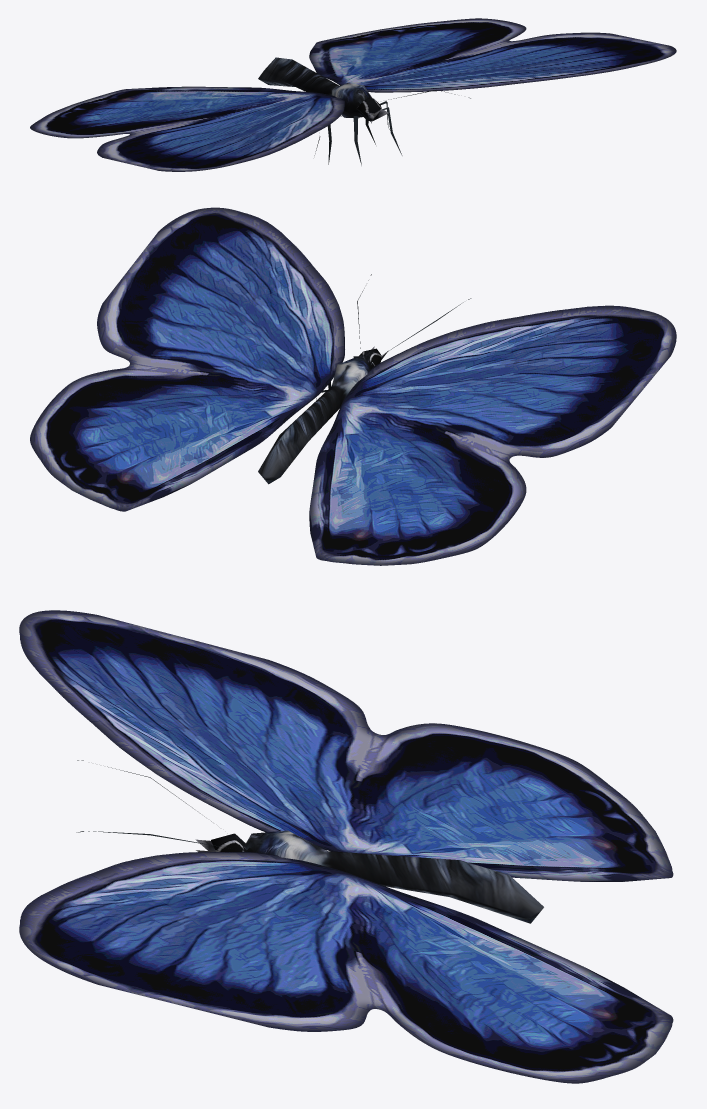
The model's file is Particle_Butterfly_Model_Angled.fbx.
3 renders of one model, top to bottom at view 1: azimuth 30°, elevation 25°; view 2: azimuth 150°, elevation 25°; view 3: azimuth 270°, elevation 25°, orthographic. The views are drawn at different scales.
Parts seen in each view (by area): view 1: ButterflyParticleMesh_Angled; view 2: ButterflyParticleMesh_Angled; view 3: ButterflyParticleMesh_Angled.
Boxes of the visible parts, x1=… form: ButterflyParticleMesh_Angled: x1=30, y1=18, x2=676, y2=171; ButterflyParticleMesh_Angled: x1=30, y1=207, x2=676, y2=565; ButterflyParticleMesh_Angled: x1=19, y1=610, x2=673, y2=1083.
Bounding box in the file's own units: 138 × 30.11 × 107.
